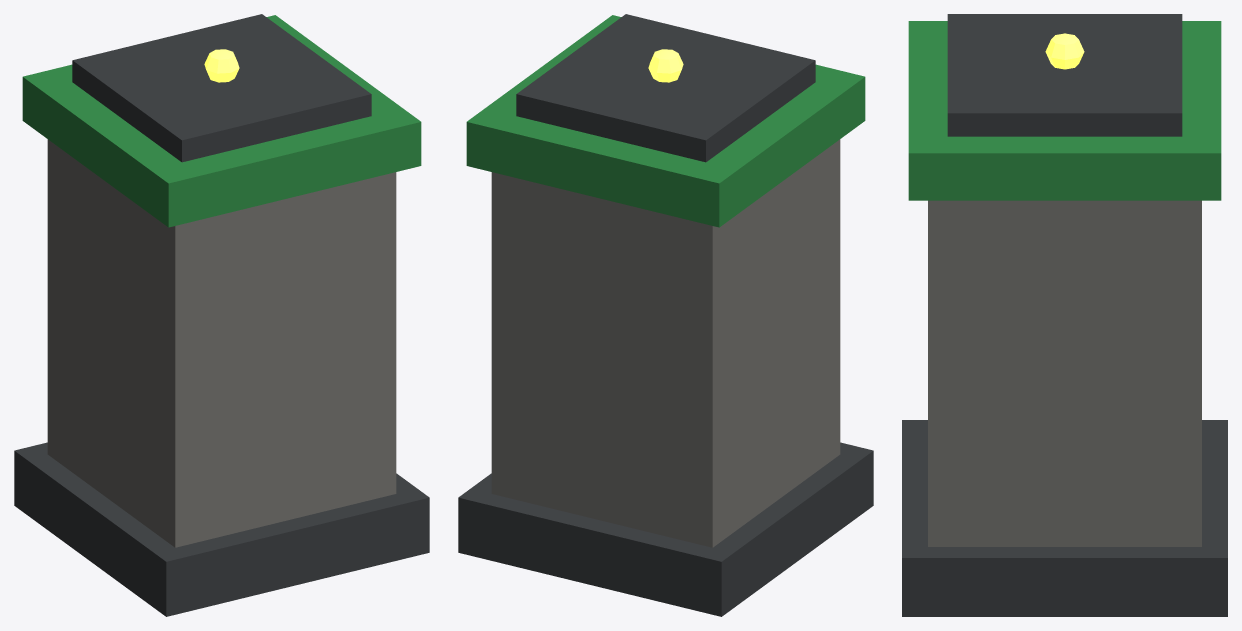
File: wall_lod1.glb
3 renders of one model, left to right at view 1: azimuth 30°, elevation 25°; view 2: azimuth 150°, elevation 25°; view 3: azimuth 270°, elevation 25°, orthographic. The views are drawn at different scales.
Visible parts, largest first — view 1: Wall_LOD1_Walls, Wall_LOD1_Foundation, Wall_LOD1_Details; view 2: Wall_LOD1_Walls, Wall_LOD1_Foundation, Wall_LOD1_Details; view 3: Wall_LOD1_Walls, Wall_LOD1_Foundation, Wall_LOD1_Details.
Part boxes in pixels (x1,y1,x2,y2): Wall_LOD1_Walls: [22, 15, 421, 547]; Wall_LOD1_Foundation: [14, 442, 429, 616]; Wall_LOD1_Details: [72, 14, 371, 162]; Wall_LOD1_Walls: [466, 15, 865, 547]; Wall_LOD1_Foundation: [458, 442, 873, 616]; Wall_LOD1_Details: [516, 14, 815, 162]; Wall_LOD1_Walls: [908, 21, 1221, 546]; Wall_LOD1_Foundation: [902, 420, 1227, 616]; Wall_LOD1_Details: [947, 14, 1182, 136].
Size of the model in its own units: 0.5 by 0.87 by 0.5.
